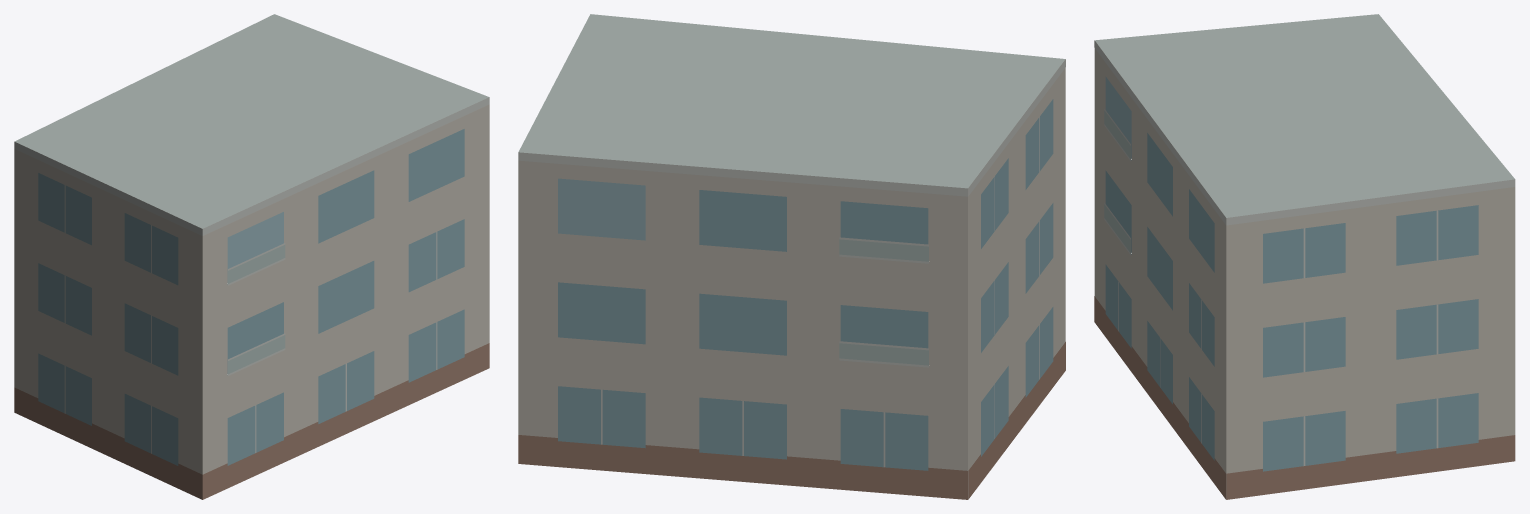
Rendered from survey-upis-32751740.glb.
The picture shows the model from 3 angles, left to right: view 1: azimuth 30°, elevation 25°; view 2: azimuth 150°, elevation 25°; view 3: azimuth 270°, elevation 25°; orthographic projection. The views are drawn at different scales.
Visible parts, largest first — view 1: survey-upis-32751740.tmp; view 2: survey-upis-32751740.tmp; view 3: survey-upis-32751740.tmp.
Boxes of the visible parts, x1=… form: survey-upis-32751740.tmp: x1=14, y1=14, x2=489, y2=499; survey-upis-32751740.tmp: x1=518, y1=14, x2=1065, y2=499; survey-upis-32751740.tmp: x1=1094, y1=14, x2=1515, y2=499.
Bounding box in the file's own units: 14.21 × 9.15 × 12.39.
